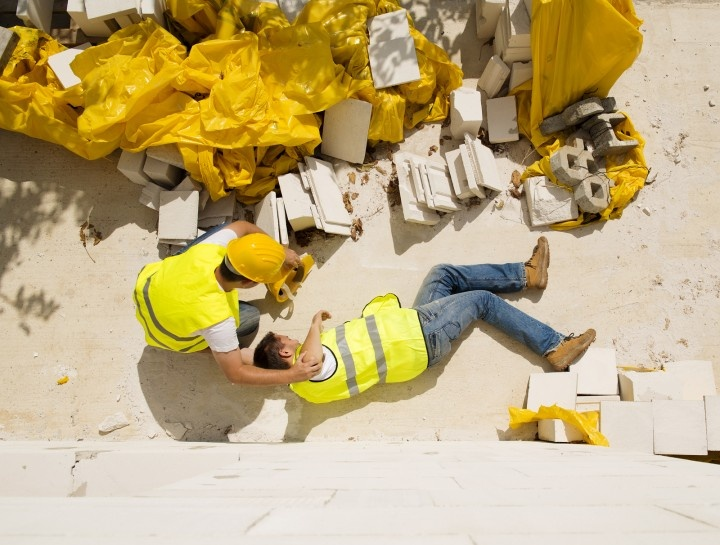none: (253, 327, 297, 374)
yellow: (220, 233, 279, 294)
